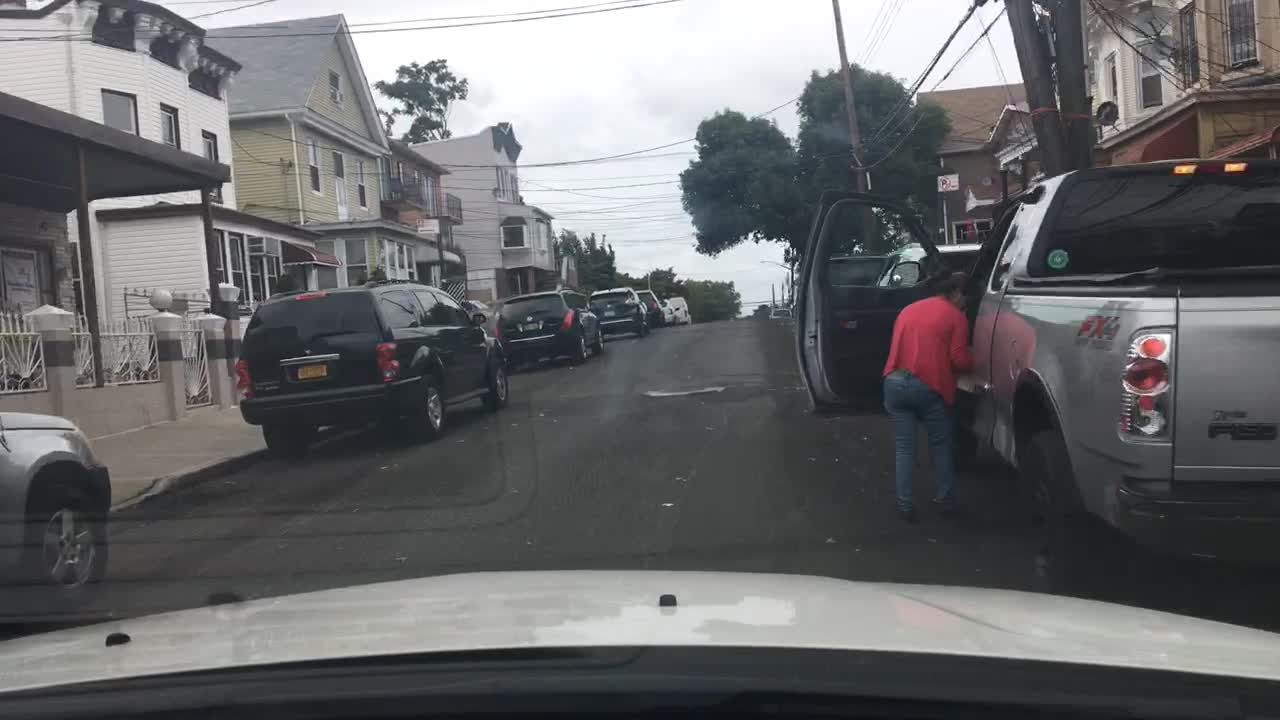car: (233, 278, 506, 446), (0, 409, 114, 605), (489, 291, 603, 368), (867, 235, 983, 287), (586, 284, 646, 339), (456, 296, 499, 327), (637, 286, 664, 327), (661, 296, 681, 326), (671, 299, 692, 322), (769, 300, 788, 322)
person: (881, 270, 975, 533)
traffic sign: (934, 171, 962, 194)
truck: (793, 157, 1279, 592)
